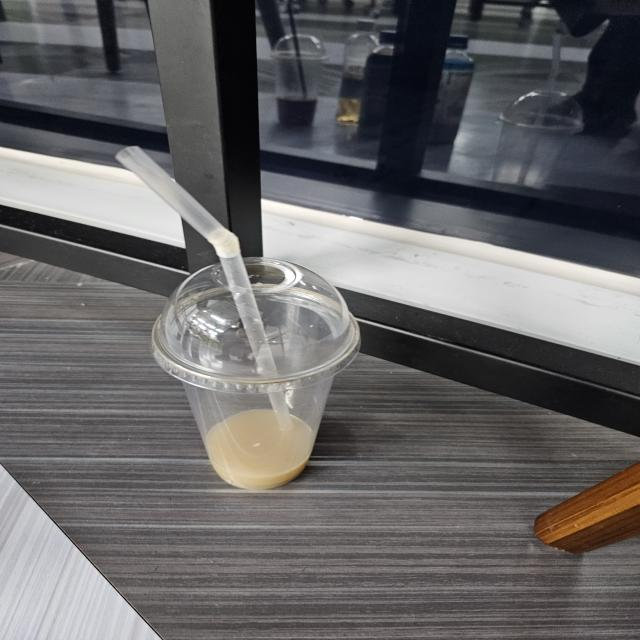cup: (150, 256, 364, 494)
